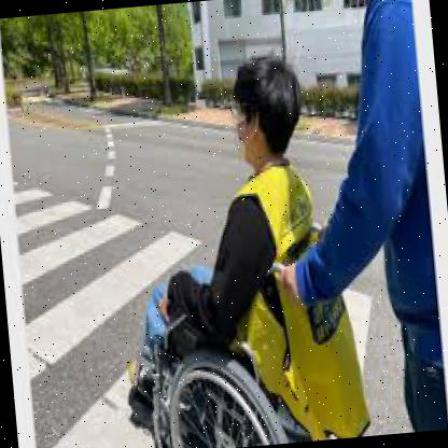wheel: (104, 48, 358, 447)
